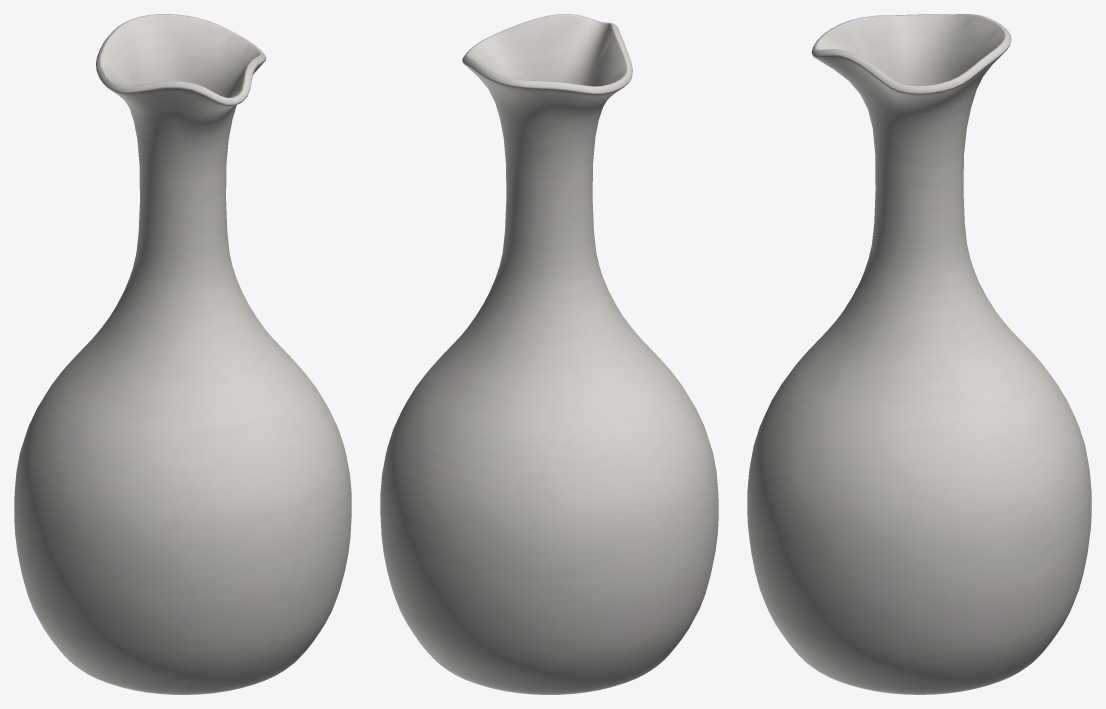
Rendered from ceramic_vase_01.glb.
3 renders of one model, left to right at view 1: azimuth 30°, elevation 25°; view 2: azimuth 150°, elevation 25°; view 3: azimuth 270°, elevation 25°, orthographic. The views are drawn at different scales.
Parts seen in each view (by area): view 1: ceramic_vase_01; view 2: ceramic_vase_01; view 3: ceramic_vase_01.
Boxes of the visible parts, x1=… form: ceramic_vase_01: x1=14, y1=14, x2=351, y2=694; ceramic_vase_01: x1=380, y1=14, x2=718, y2=694; ceramic_vase_01: x1=747, y1=14, x2=1091, y2=694.
Size of the model in its own units: 0.2036 by 0.4003 by 0.2036.
Materials: 1 (1 with a texture image).
